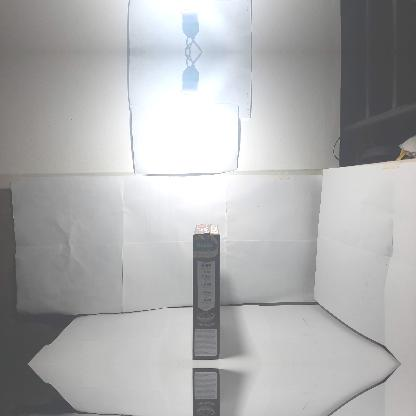Koko-Krunch: (192, 222, 221, 360), (191, 368, 221, 415)
